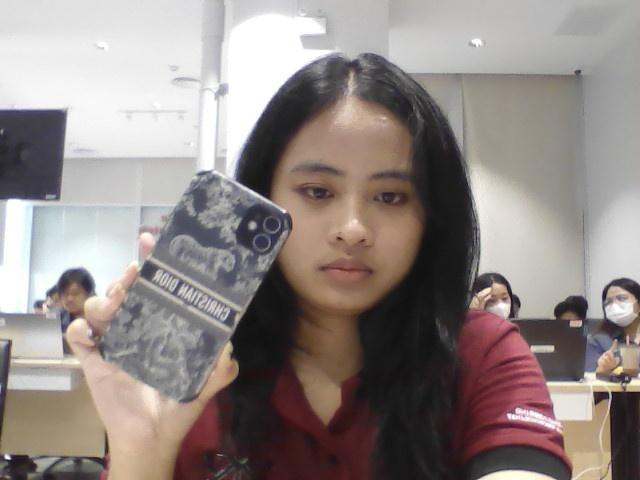iphone: (85, 160, 296, 394)
